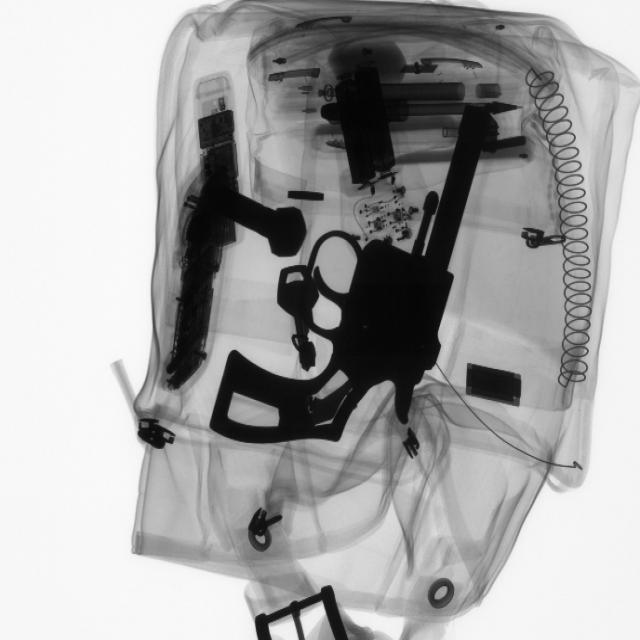GUN: (196, 103, 503, 464)
